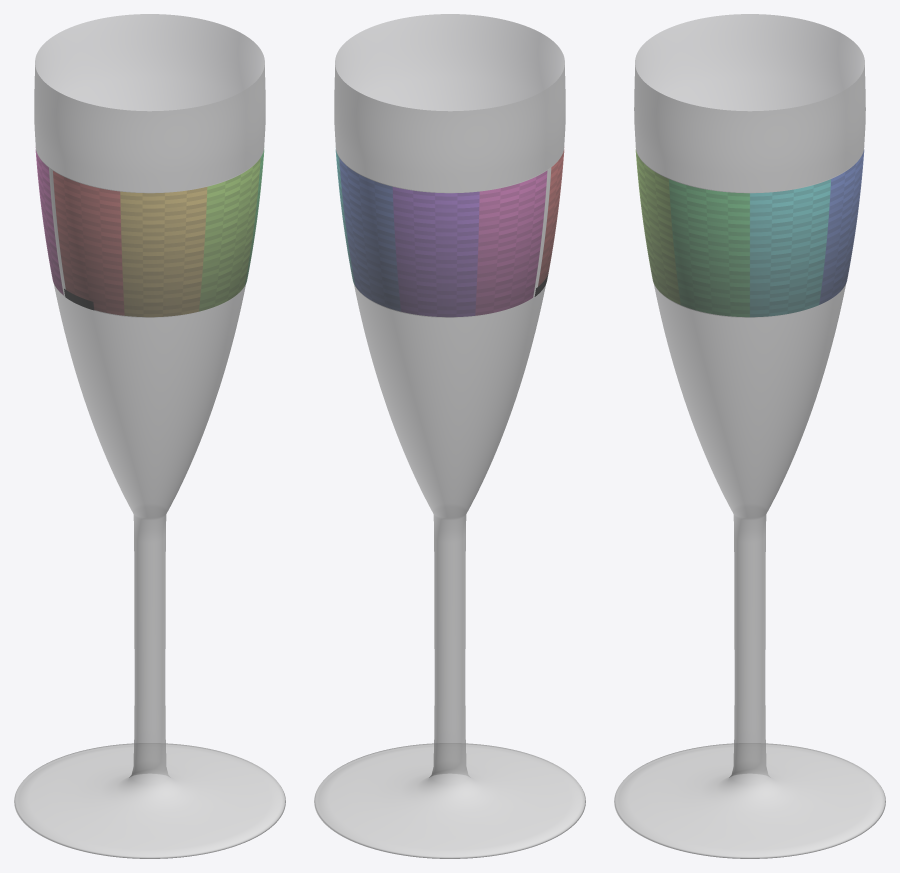
Rendered from FluteChampagne.glb.
3 views of the same model, side by side, from view 1: azimuth 30°, elevation 25°; view 2: azimuth 150°, elevation 25°; view 3: azimuth 270°, elevation 25° (orthographic).
Visible parts, largest first — view 1: Cylinder; view 2: Cylinder; view 3: Cylinder.
Part boxes in pixels (x1,y1,x2,y2): Cylinder: (14,14,285,858); Cylinder: (314,14,585,858); Cylinder: (614,14,885,858).
Bounding box in the file's own units: 0.065 × 0.195 × 0.065.
2 materials, 1 textured.
